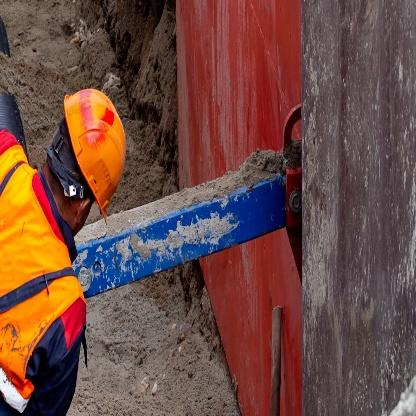helmet: (24, 69, 123, 255)
